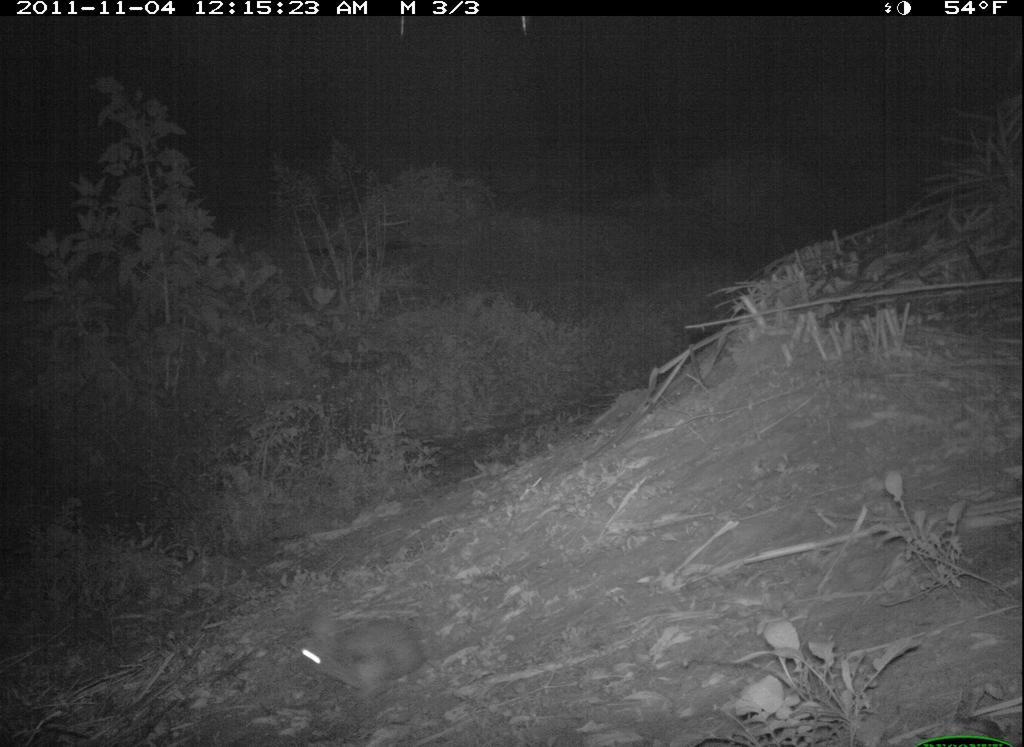rabbit: (286, 573, 441, 702)
